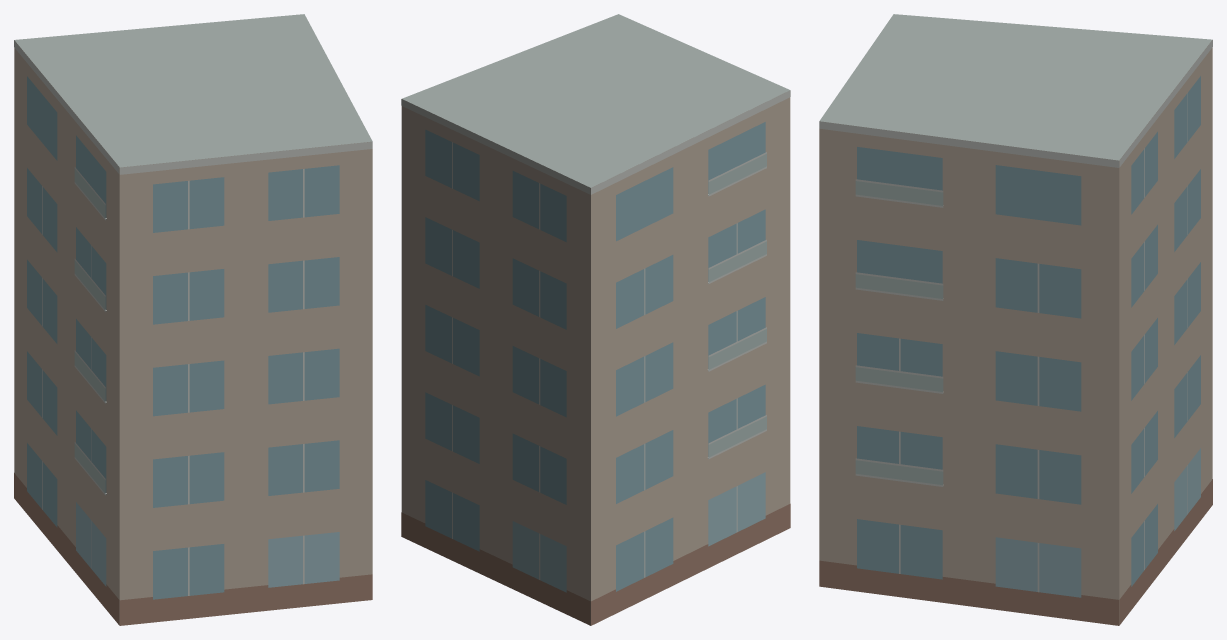
Rendered from survey-upis-32880784.glb.
The picture shows the model from 3 angles, left to right: view 1: azimuth 30°, elevation 25°; view 2: azimuth 150°, elevation 25°; view 3: azimuth 270°, elevation 25°; orthographic projection. The views are drawn at different scales.
Visible parts, largest first — view 1: survey-upis-32880784.tmp; view 2: survey-upis-32880784.tmp; view 3: survey-upis-32880784.tmp.
Part boxes in pixels (left/top/right/bottom): survey-upis-32880784.tmp: left=14, top=14, right=372, bottom=625; survey-upis-32880784.tmp: left=401, top=14, right=790, bottom=625; survey-upis-32880784.tmp: left=819, top=14, right=1212, bottom=625.
Bounding box in the file's own units: 10.28 × 15.2 × 11.66.
